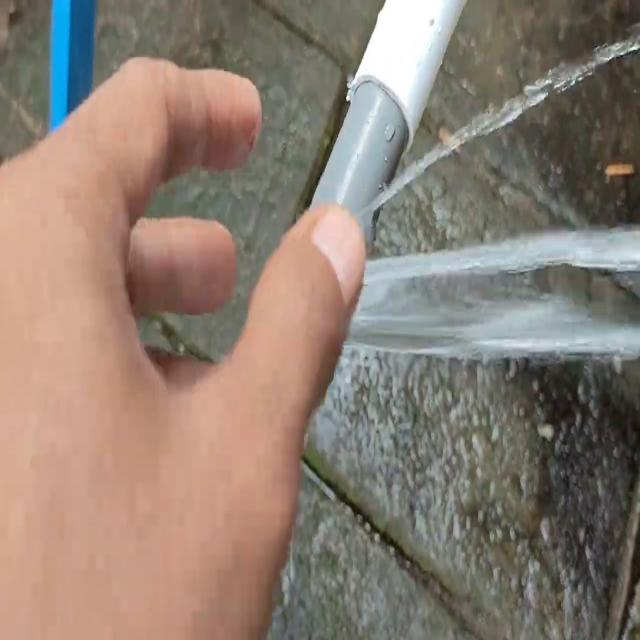leak: (339, 18, 640, 360)
